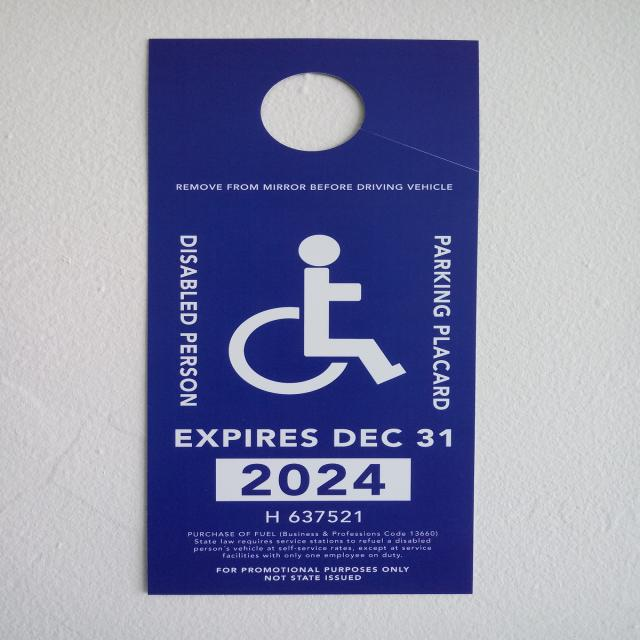symbol_of_access: (224, 227, 417, 405)
